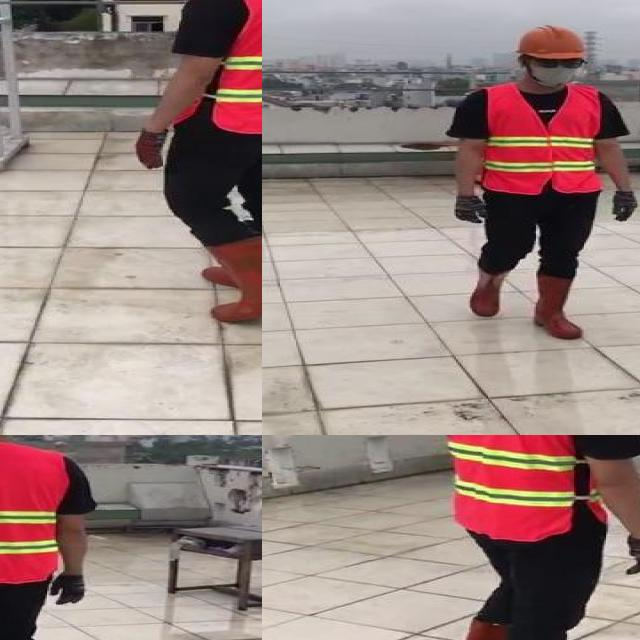boots: (198, 235, 262, 324), (532, 273, 588, 339), (468, 269, 509, 318), (449, 620, 540, 640)
face_mask: (522, 50, 588, 86)
glasses: (530, 54, 586, 72)
hand_glove: (134, 128, 167, 168), (454, 192, 490, 224), (51, 575, 86, 606), (611, 188, 637, 222), (625, 535, 640, 575)
head_helmet: (515, 22, 589, 62)
person: (446, 21, 640, 342), (426, 435, 640, 640), (130, 0, 262, 324), (0, 435, 104, 640)
vest: (437, 435, 600, 539), (486, 83, 604, 194), (188, 0, 262, 133), (0, 442, 66, 581)
